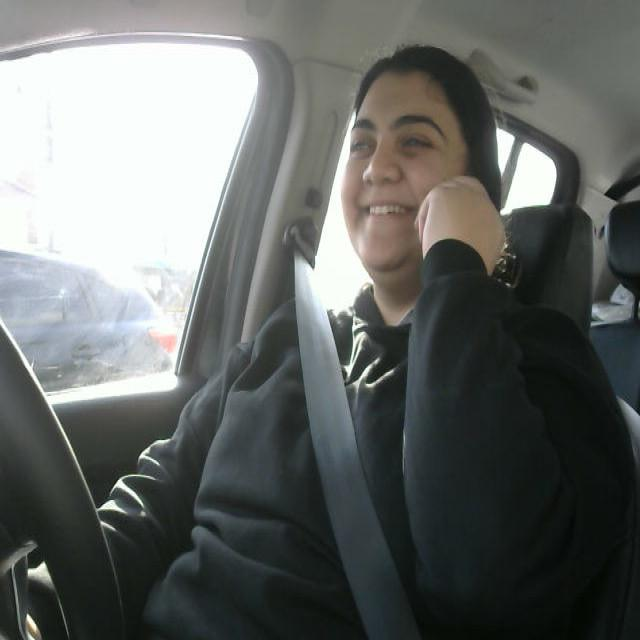mobile use: (407, 172, 501, 280)
